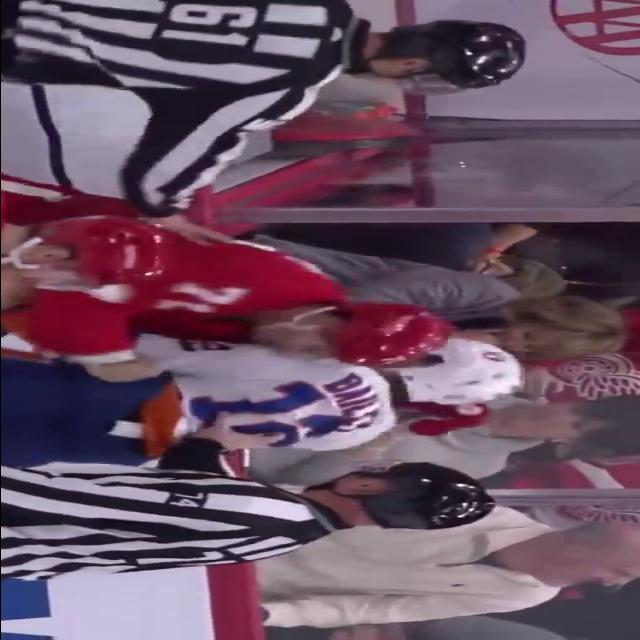NonViolence: (1, 456, 498, 574), (0, 0, 528, 105), (261, 501, 640, 627)
Violence: (0, 211, 524, 455)
